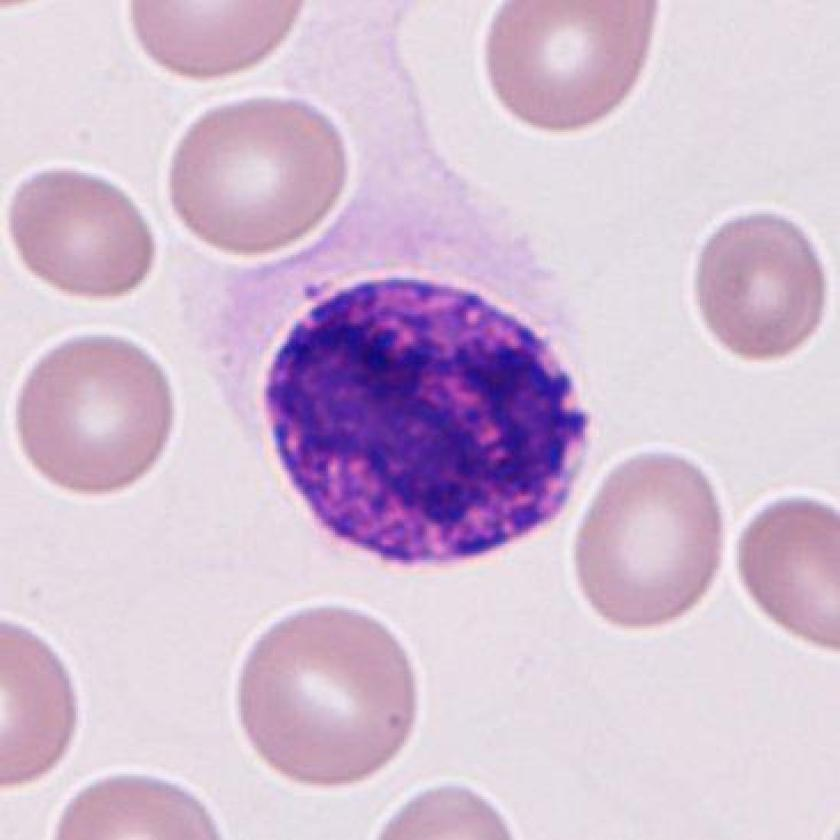basophil: (249, 265, 600, 579)
